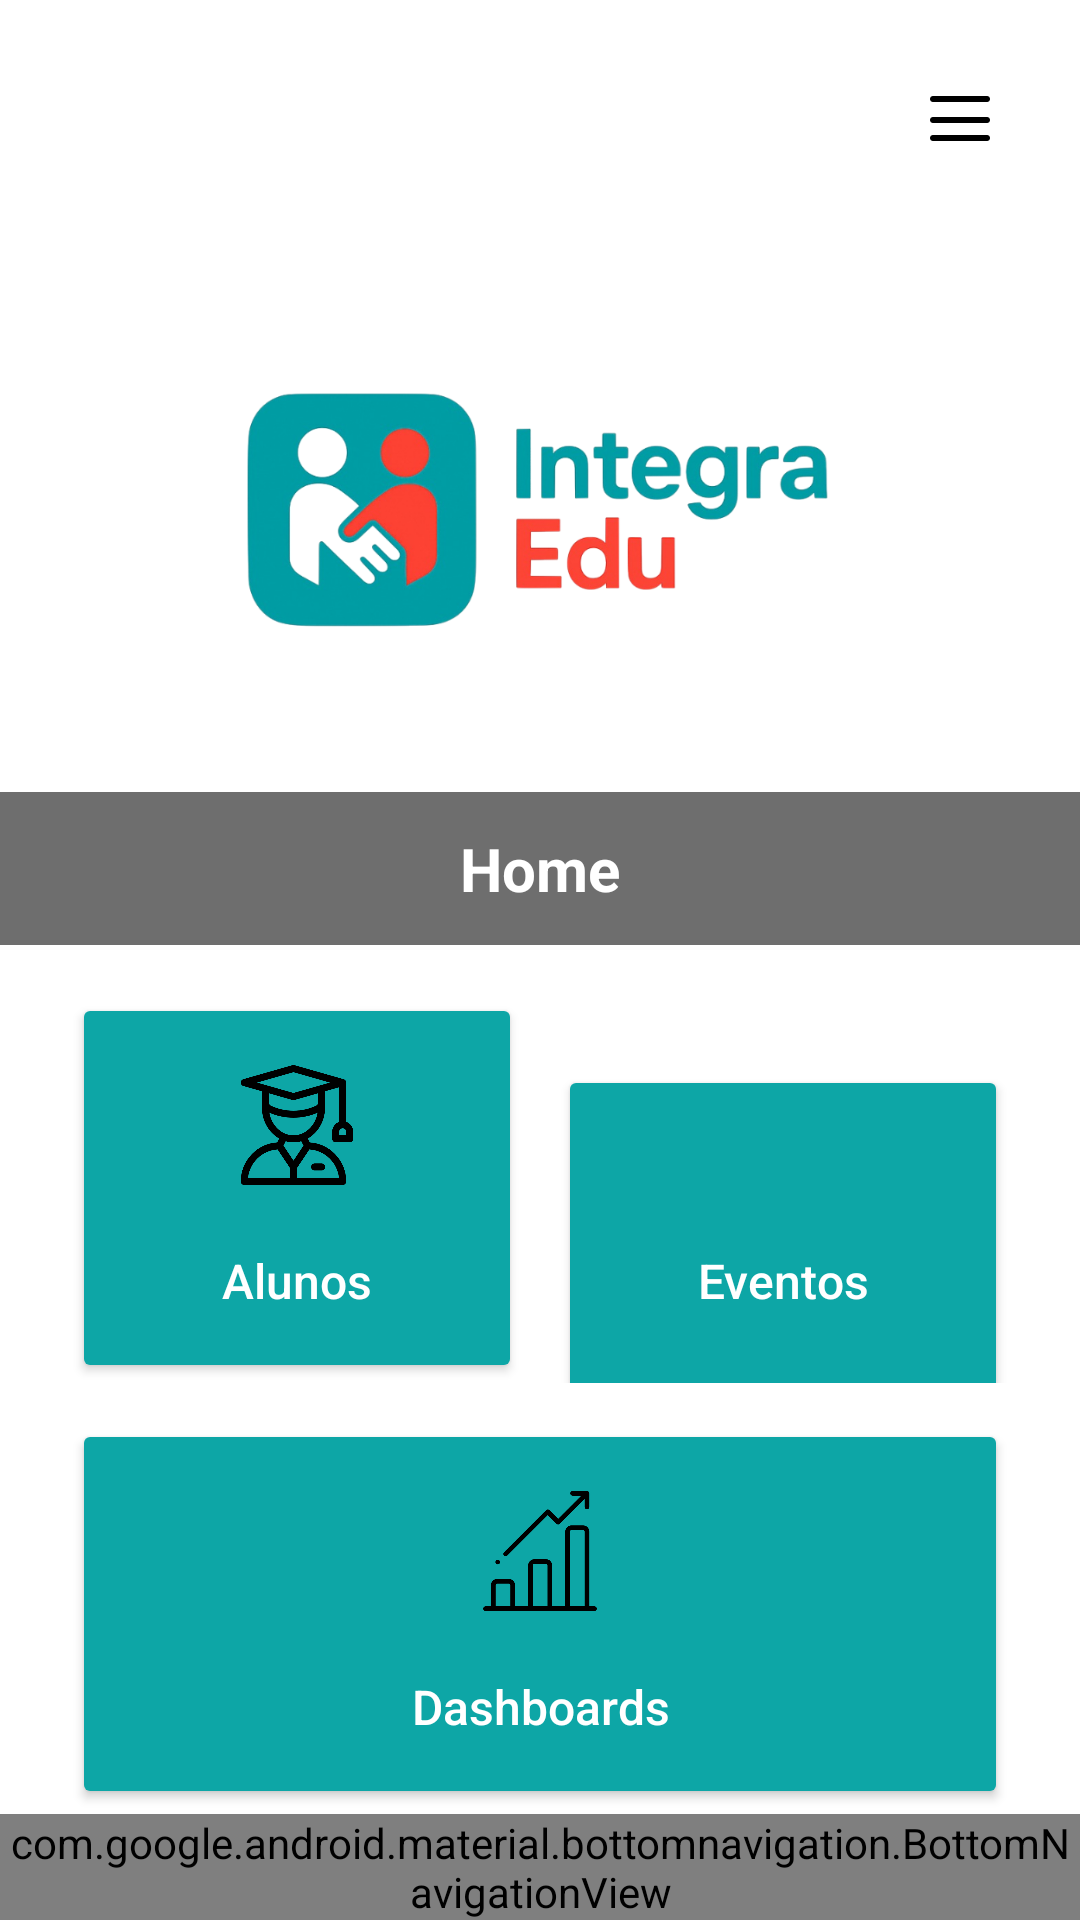

Locate icon controls on the screen. Image size 1080 x 1920, boxes as (x1, y1, x2, y2).
Abrir menu: (930, 96, 990, 141)
